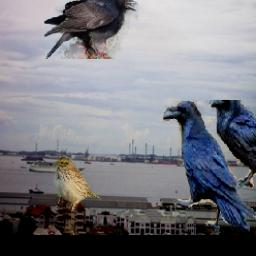Crow: (162, 101, 256, 235), (43, 0, 137, 60)
Sparrow: (52, 154, 100, 211)
